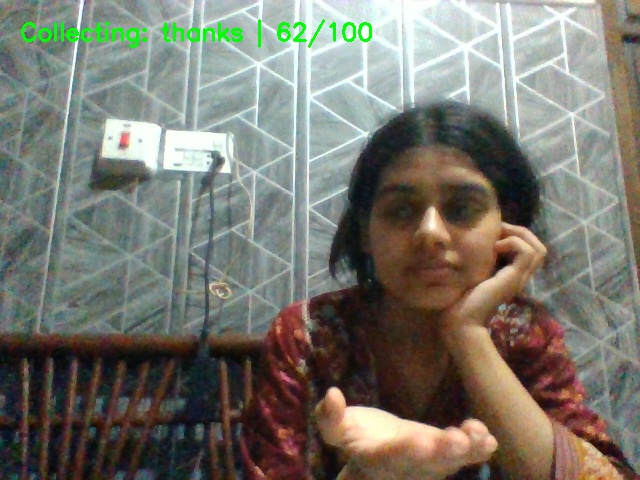thanks: (301, 367, 508, 480)
